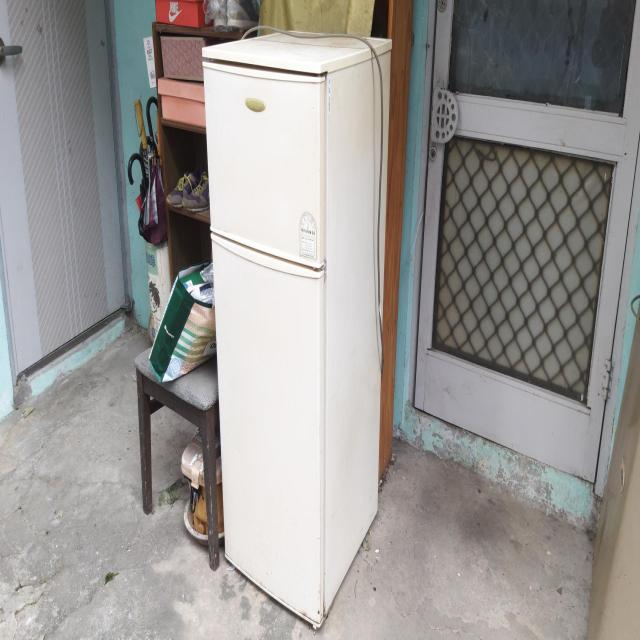refrigerator: (199, 25, 394, 635)
